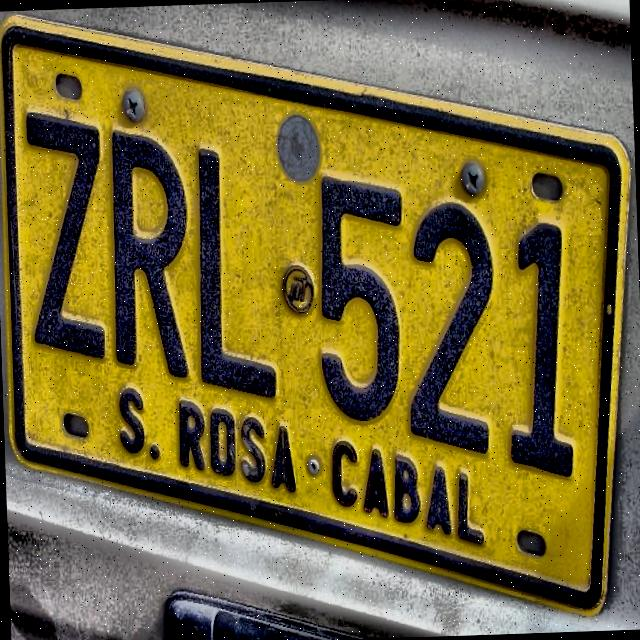plate: (5, 24, 623, 606)
